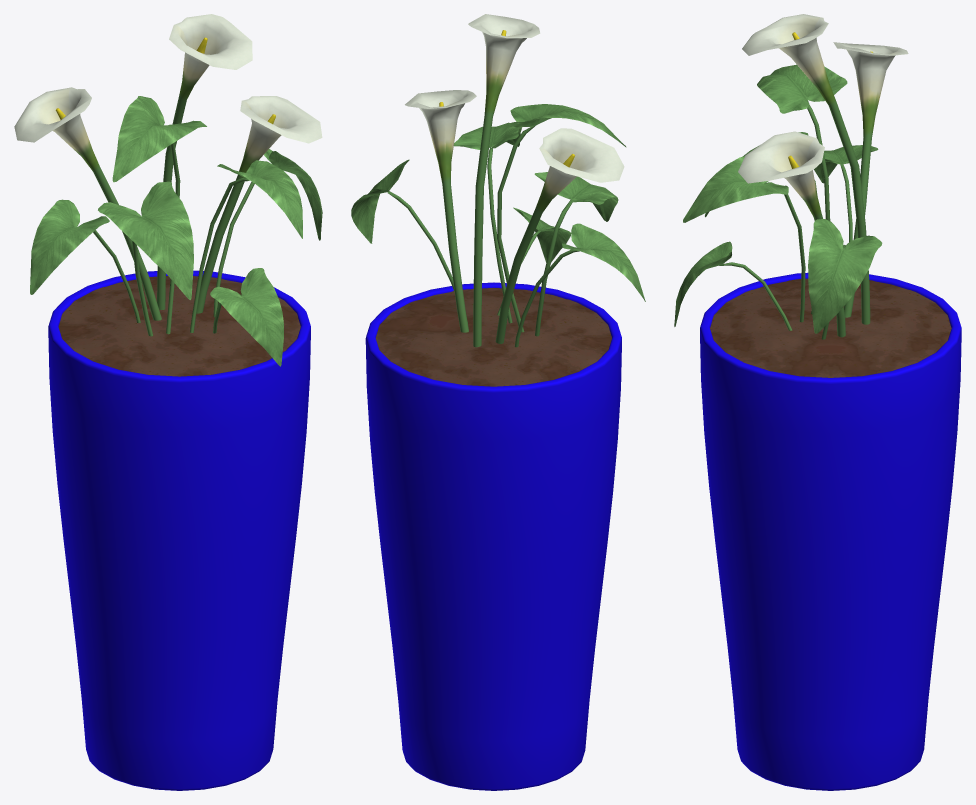
Rendered from VaseFloor04_5.FBX.
3 views of the same model, side by side, from view 1: azimuth 30°, elevation 25°; view 2: azimuth 150°, elevation 25°; view 3: azimuth 270°, elevation 25° (orthographic). The views are drawn at different scales.
Parts seen in each view (by area): view 1: VaseFloor04_5; view 2: VaseFloor04_5; view 3: VaseFloor04_5.
Boxes of the visible parts, x1,y1,x2,y2 form: VaseFloor04_5: [14, 14, 322, 790]; VaseFloor04_5: [351, 14, 645, 790]; VaseFloor04_5: [674, 14, 961, 790].
Bounding box in the file's own units: 80.27 × 194 × 69.18.
